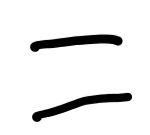eqv: (30, 34, 132, 121)
